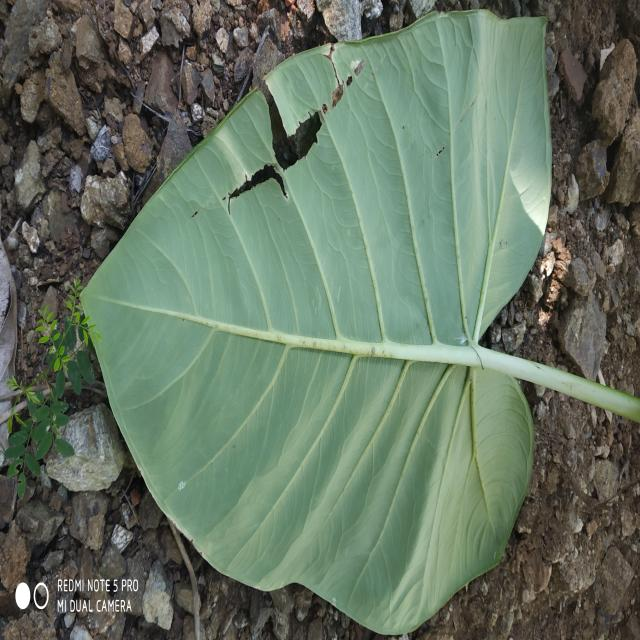defectedtaro: (165, 91, 279, 229), (266, 42, 364, 138)
taro: (82, 16, 551, 633)
